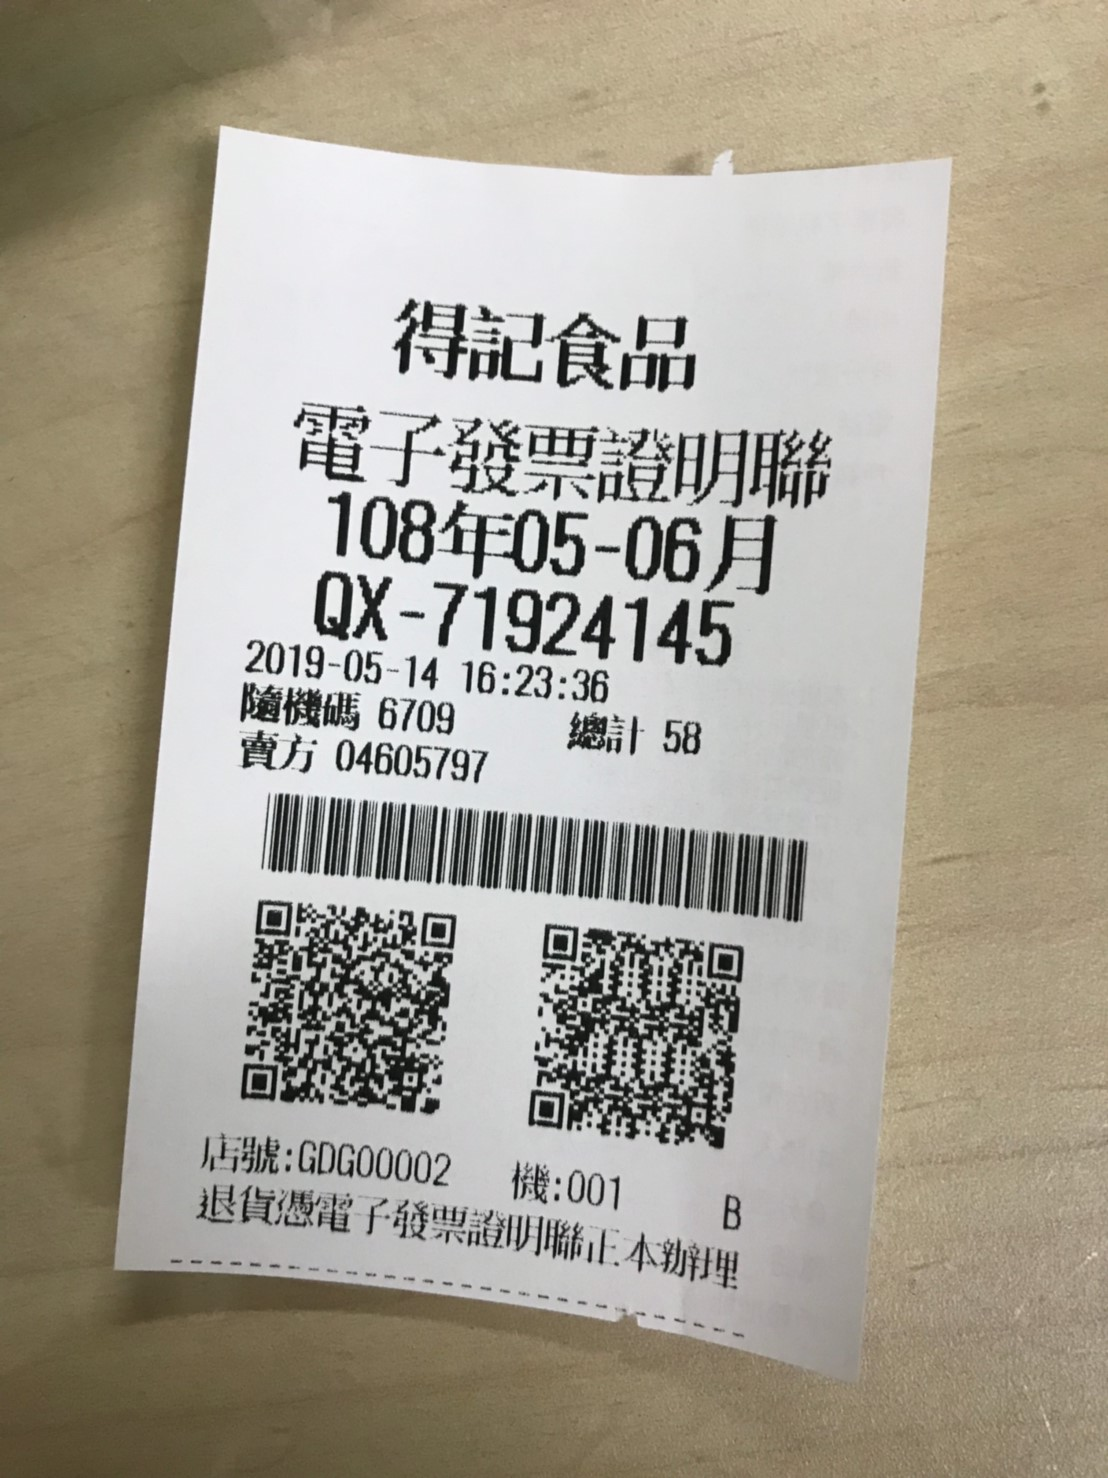Date_New: (324, 486, 777, 602)
Number_New: (428, 574, 743, 667)
